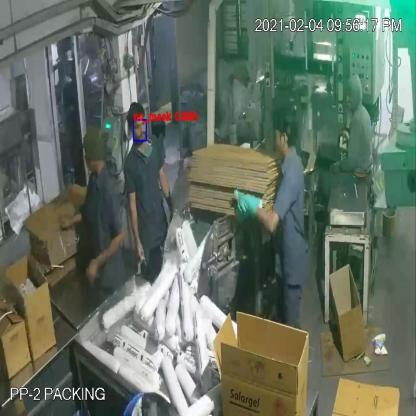glove: (231, 182, 283, 241)
no_glove: (76, 226, 128, 284), (124, 180, 149, 274), (155, 160, 180, 233), (54, 206, 87, 236)
